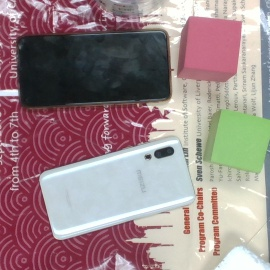phone: (13, 29, 173, 107)
